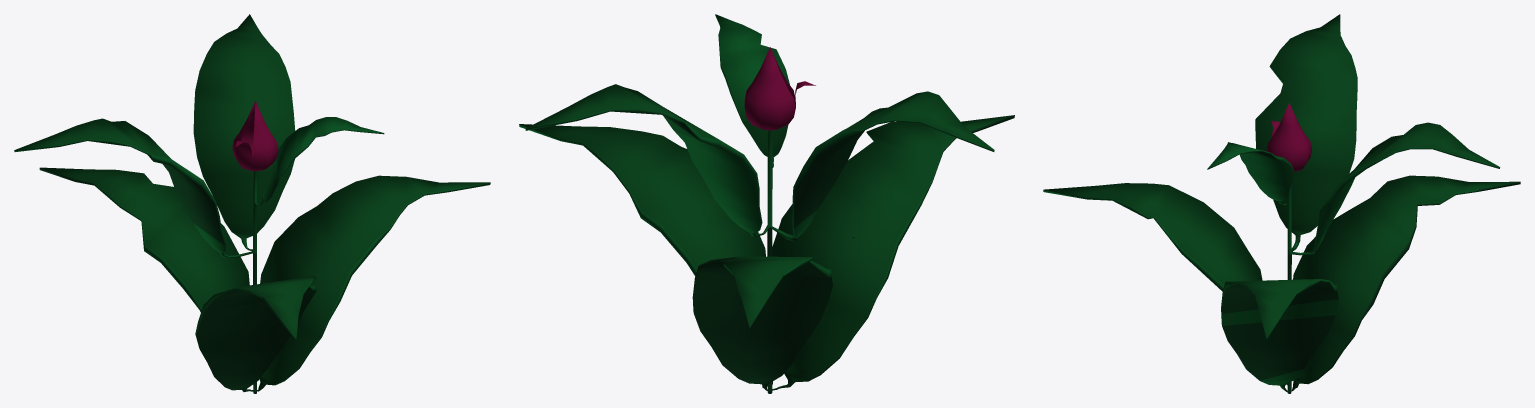
Rendered from Plant_2.fbx.
The picture shows the model from 3 angles, left to right: view 1: azimuth 30°, elevation 25°; view 2: azimuth 150°, elevation 25°; view 3: azimuth 270°, elevation 25°; orthographic projection. The views are drawn at different scales.
Visible parts, largest first — view 1: Cube.003; view 2: Cube.003; view 3: Cube.003.
Boxes of the visible parts, <box> form: Cube.003: <box>14,14,490,393</box>; Cube.003: <box>519,14,1014,393</box>; Cube.003: <box>1043,14,1520,393</box>.
Bounding box in the file's own units: 243 × 155 × 231.
